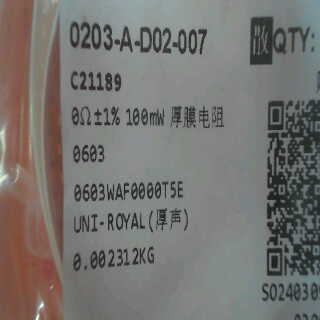0R: (67, 103, 127, 166)
